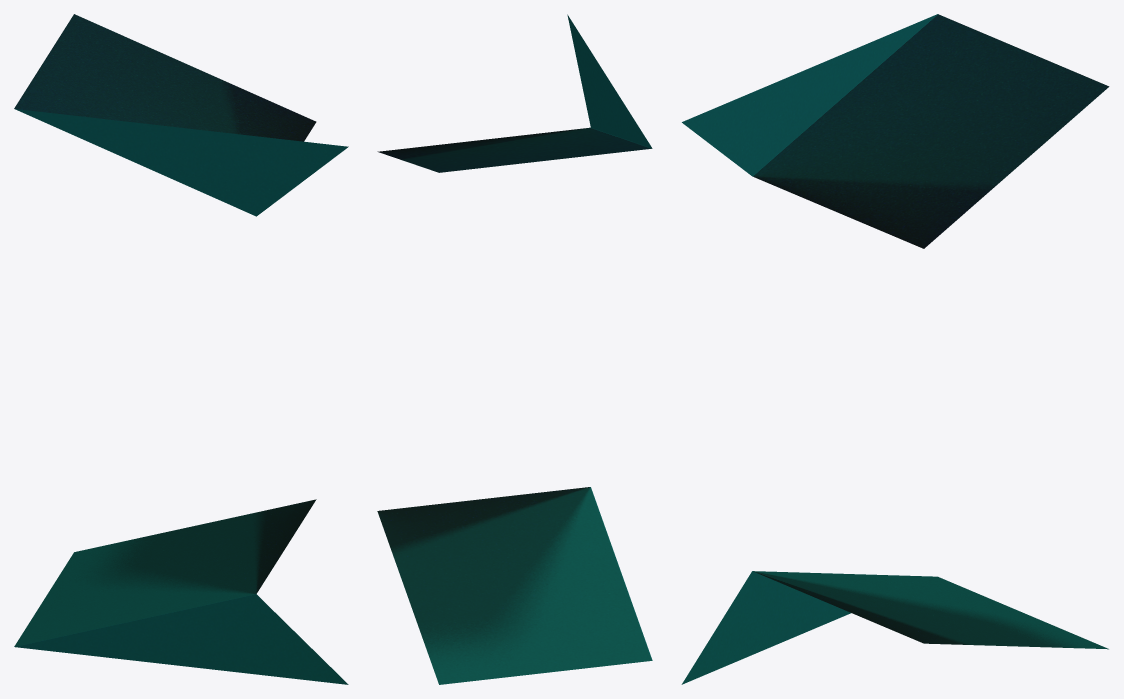
File: icon_3Ds_4.glb
3 renders of one model, left to right at view 1: azimuth 30°, elevation 25°; view 2: azimuth 150°, elevation 25°; view 3: azimuth 270°, elevation 25°, orthographic. The views are drawn at different scales.
Parts seen in each view (by area): view 1: icon_3Ds_4; view 2: icon_3Ds_4; view 3: icon_3Ds_4.
Boxes of the visible parts, x1,y1,x2,y2 form: icon_3Ds_4: [14, 14, 348, 684]; icon_3Ds_4: [377, 14, 652, 684]; icon_3Ds_4: [681, 14, 1109, 684].
Bounding box in the file's own units: 0.9134 × 1.59 × 1.09.
Materials: 1 (1 with a texture image).
